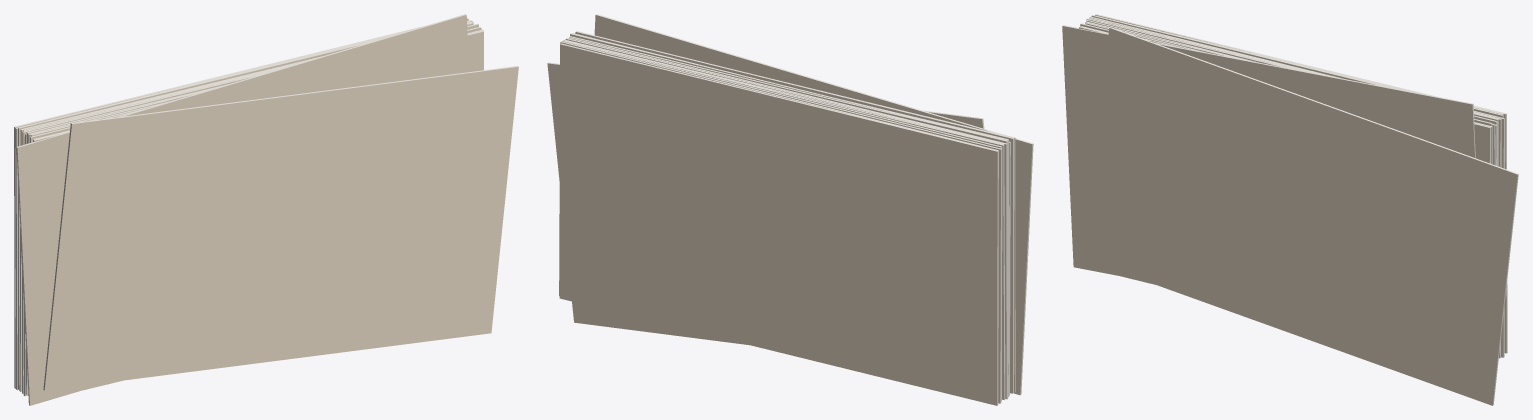
File: card.glb
The picture shows the model from 3 angles, left to right: view 1: azimuth 30°, elevation 25°; view 2: azimuth 150°, elevation 25°; view 3: azimuth 330°, elevation 25°; orthographic projection. The views are drawn at different scales.
Parts seen in each view (by area): view 1: card_top, card_mid, card_03, card_00, card_02, card_07, card_05, card_15, card_09, card_06, card_10; view 2: card_00, card_mid, card_top, card_13, card_02, card_07, card_05, card_09, card_03, card_10, card_01, card_06 (+3 smaller); view 3: card_top, card_mid, card_03, card_01, card_15, card_06, card_04, card_00, card_07, card_05, card_10, card_02 (+1 smaller).
Part boxes in pixels (x1=…): card_top: x1=43, y1=66, x2=518, y2=390; card_mid: x1=16, y1=14, x2=469, y2=405; card_03: x1=18, y1=18, x2=468, y2=389; card_00: x1=14, y1=25, x2=425, y2=388; card_02: x1=15, y1=33, x2=400, y2=390; card_07: x1=22, y1=22, x2=472, y2=393; card_05: x1=19, y1=22, x2=469, y2=391; card_15: x1=33, y1=31, x2=483, y2=389; card_09: x1=25, y1=84, x2=227, y2=394; card_06: x1=23, y1=21, x2=473, y2=131; card_10: x1=28, y1=23, x2=478, y2=143; card_00: x1=559, y1=43, x2=998, y2=405; card_mid: x1=594, y1=14, x2=1033, y2=395; card_top: x1=547, y1=62, x2=984, y2=345; card_13: x1=575, y1=31, x2=1014, y2=392; card_02: x1=563, y1=41, x2=1002, y2=403; card_07: x1=569, y1=37, x2=1007, y2=398; card_05: x1=568, y1=40, x2=1005, y2=399; card_09: x1=569, y1=36, x2=1008, y2=395; card_03: x1=563, y1=40, x2=1002, y2=400; card_10: x1=570, y1=33, x2=1008, y2=297; card_01: x1=559, y1=41, x2=998, y2=295; card_06: x1=565, y1=38, x2=1004, y2=144; card_top: x1=1084, y1=27, x2=1518, y2=405; card_mid: x1=1062, y1=25, x2=1475, y2=280; card_03: x1=1091, y1=15, x2=1503, y2=117; card_01: x1=1142, y1=26, x2=1507, y2=353; card_15: x1=1079, y1=26, x2=1490, y2=284; card_06: x1=1090, y1=18, x2=1501, y2=358; card_04: x1=1117, y1=23, x2=1504, y2=357; card_00: x1=1095, y1=14, x2=1506, y2=150; card_07: x1=1086, y1=18, x2=1498, y2=122; card_05: x1=1089, y1=16, x2=1501, y2=118; card_10: x1=1085, y1=21, x2=1497, y2=124; card_02: x1=1096, y1=15, x2=1503, y2=114.
Bounding box in the file's own units: 0.1001 × 0.0618 × 0.0075.
